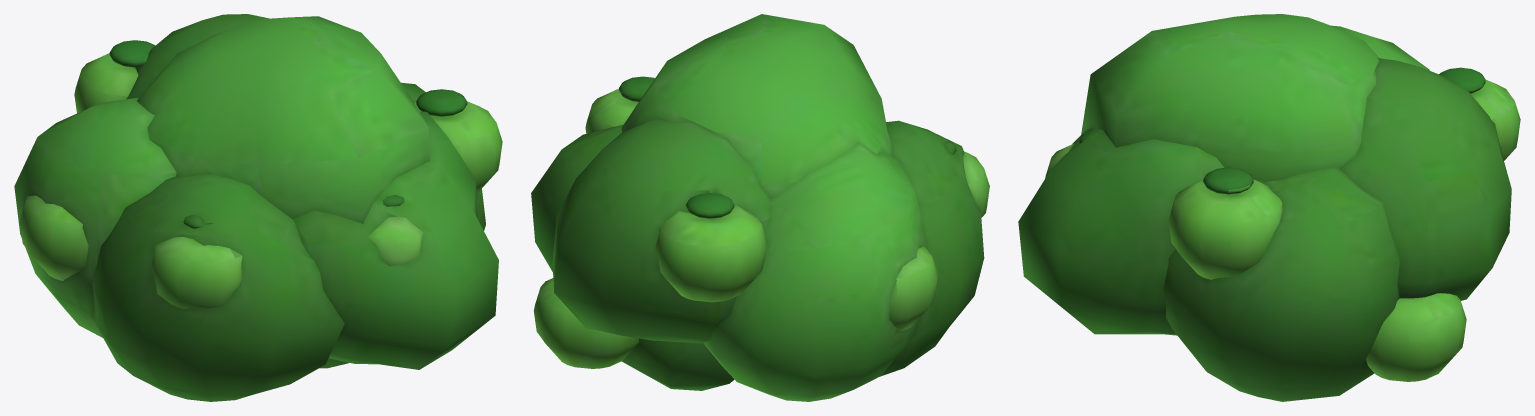
The model's file is crop_okra.glb.
3 views of the same model, side by side, from view 1: azimuth 30°, elevation 25°; view 2: azimuth 150°, elevation 25°; view 3: azimuth 270°, elevation 25° (orthographic). The views are drawn at different scales.
Visible parts, largest first — view 1: crop_okra, fruit; view 2: crop_okra, fruit; view 3: crop_okra, fruit.
Part boxes in pixels (x1,y1,x2,y2): crop_okra: [14, 14, 498, 401]; fruit: [19, 53, 502, 309]; crop_okra: [531, 14, 984, 401]; fruit: [534, 88, 989, 368]; crop_okra: [1018, 14, 1511, 401]; fruit: [1045, 80, 1520, 381].
Bounding box in the file's own units: 0.2659 × 0.2091 × 0.275.
Materials: 1 (1 with a texture image).
